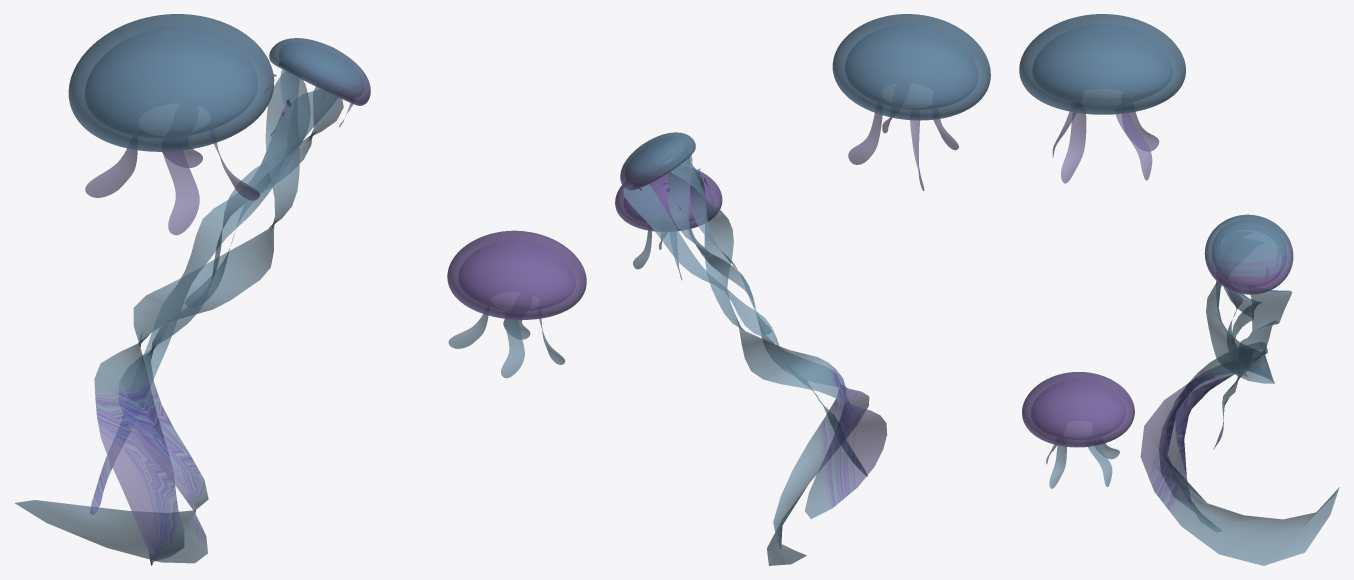
The model's file is jellyfish.glb.
The picture shows the model from 3 angles, left to right: view 1: azimuth 30°, elevation 25°; view 2: azimuth 150°, elevation 25°; view 3: azimuth 270°, elevation 25°; orthographic projection. The views are drawn at different scales.
Parts seen in each view (by area): view 1: ベジエカーブ.012; view 2: ベジエカーブ.012; view 3: ベジエカーブ.012.
Part boxes in pixels (x1,y1,x2,y2): ベジエカーブ.012: [15, 14, 586, 565]; ベジエカーブ.012: [615, 14, 990, 565]; ベジエカーブ.012: [1019, 14, 1339, 565].
Bounding box in the file's own units: 3.13 × 3.92 × 2.24.
Materials: 2 (2 with a texture image).
